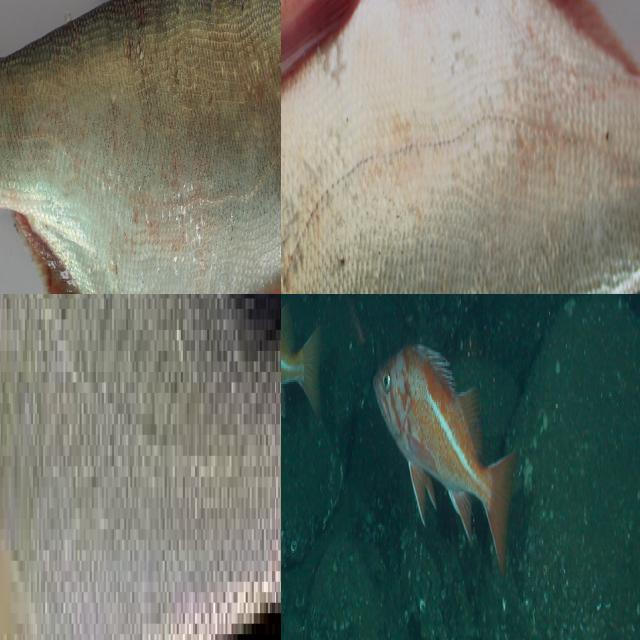fish: (281, 0, 640, 294), (0, 294, 281, 640), (0, 0, 281, 294)
